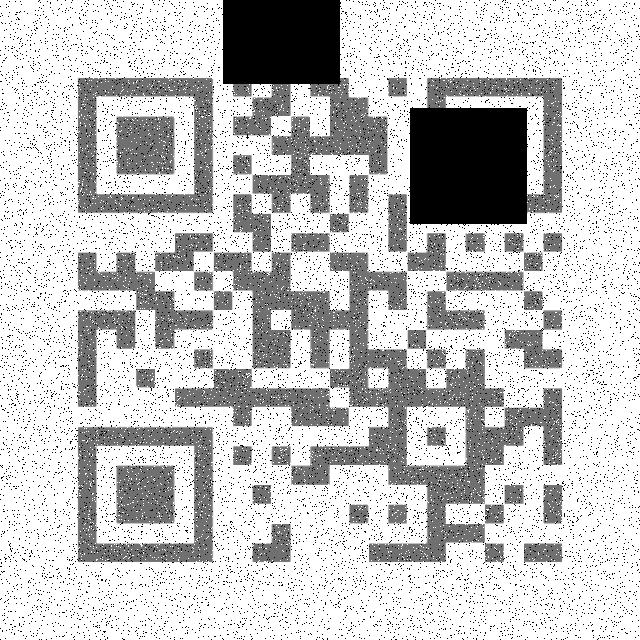QR_CODE: (66, 65, 572, 576)
